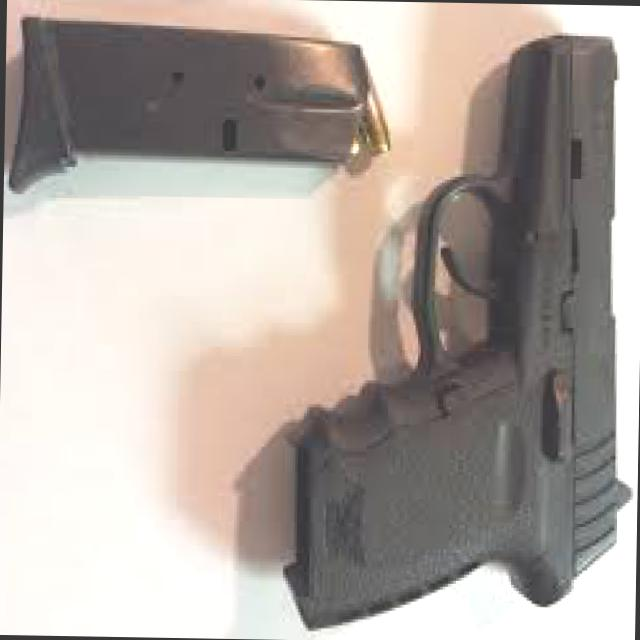handgun: (278, 21, 639, 630)
